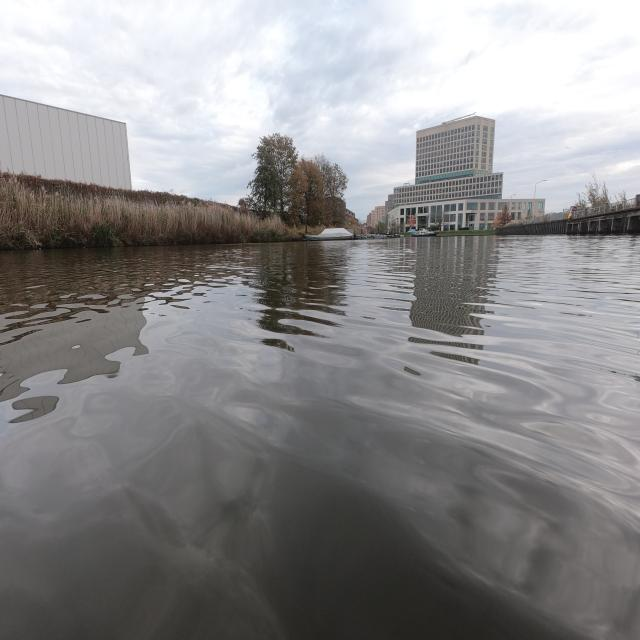boat: (304, 228, 354, 241), (412, 229, 437, 237)
reed: (0, 171, 302, 249)
wall: (495, 207, 640, 236)
water: (0, 236, 640, 640)
